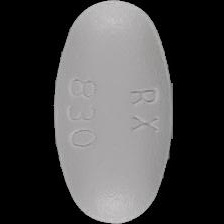63629-4850: (0, 0, 224, 224)
